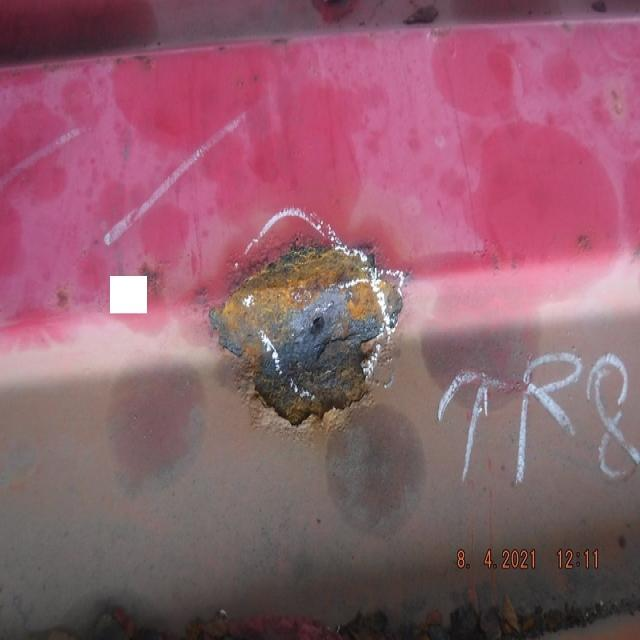rust: (204, 232, 410, 433)
